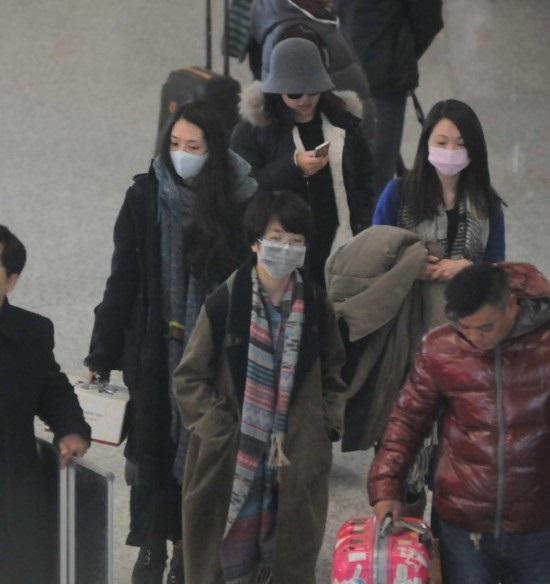NONE: (460, 315, 500, 354), (289, 84, 321, 118)
OK: (257, 221, 312, 276), (165, 126, 219, 180), (426, 132, 471, 177)
